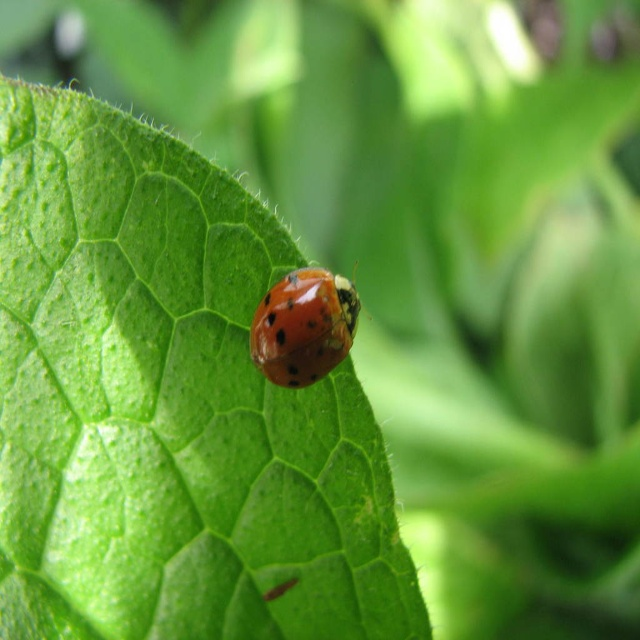Ladybug: (248, 258, 372, 389)
